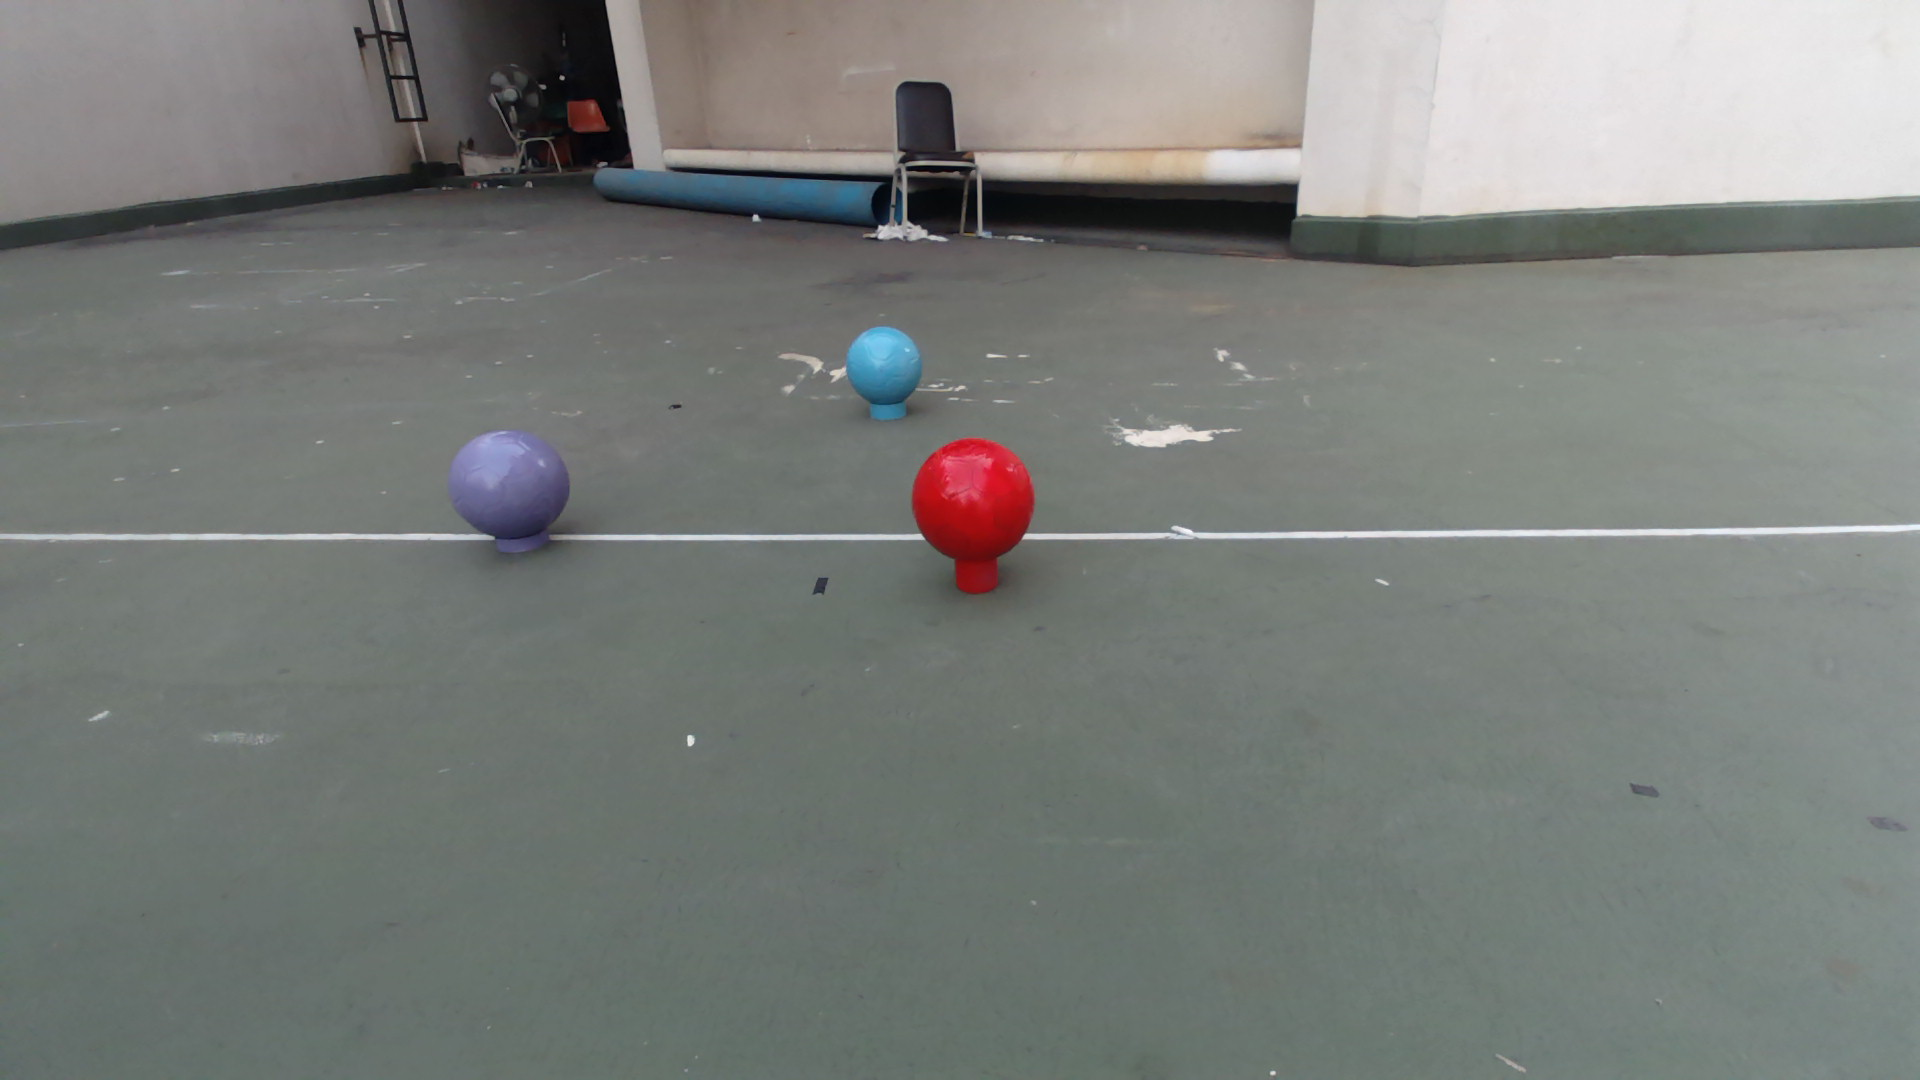Blue ball: (844, 324, 924, 407)
Purple ball: (444, 429, 574, 541)
Red ball: (909, 436, 1036, 564)
